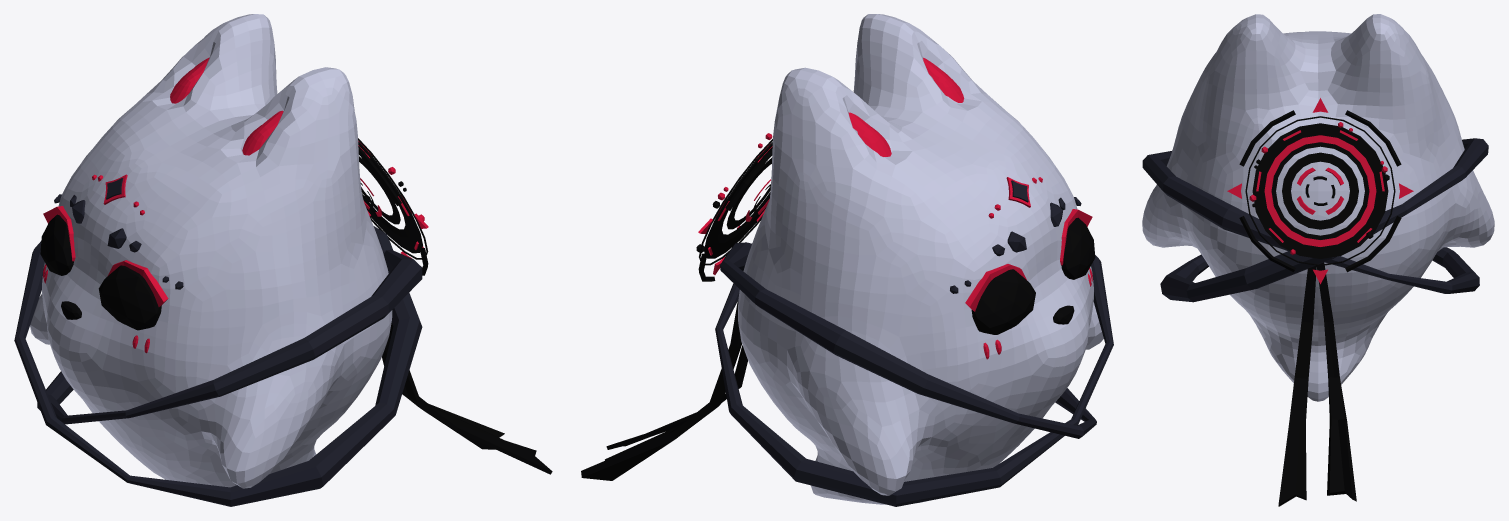
Rendered from siro.fbx.
3 renders of one model, left to right at view 1: azimuth 30°, elevation 25°; view 2: azimuth 150°, elevation 25°; view 3: azimuth 270°, elevation 25°, orthographic. The views are drawn at different scales.
Parts seen in each view (by area): view 1: 2Siro_body, 2Siro_sub_ring1_2; view 2: 2Siro_body, 2Siro_sub_ring1_2; view 3: 2Siro_body, 2Siro_sub_ring1_2.
Part boxes in pixels (x1,y1,x2,y2): 2Siro_body: [14, 14, 552, 506]; 2Siro_sub_ring1_2: [358, 138, 428, 275]; 2Siro_body: [581, 14, 1113, 506]; 2Siro_sub_ring1_2: [696, 133, 772, 281]; 2Siro_body: [1142, 14, 1494, 506]; 2Siro_sub_ring1_2: [1227, 98, 1413, 284].
Bounding box in the file's own units: 295 × 277 × 227.
